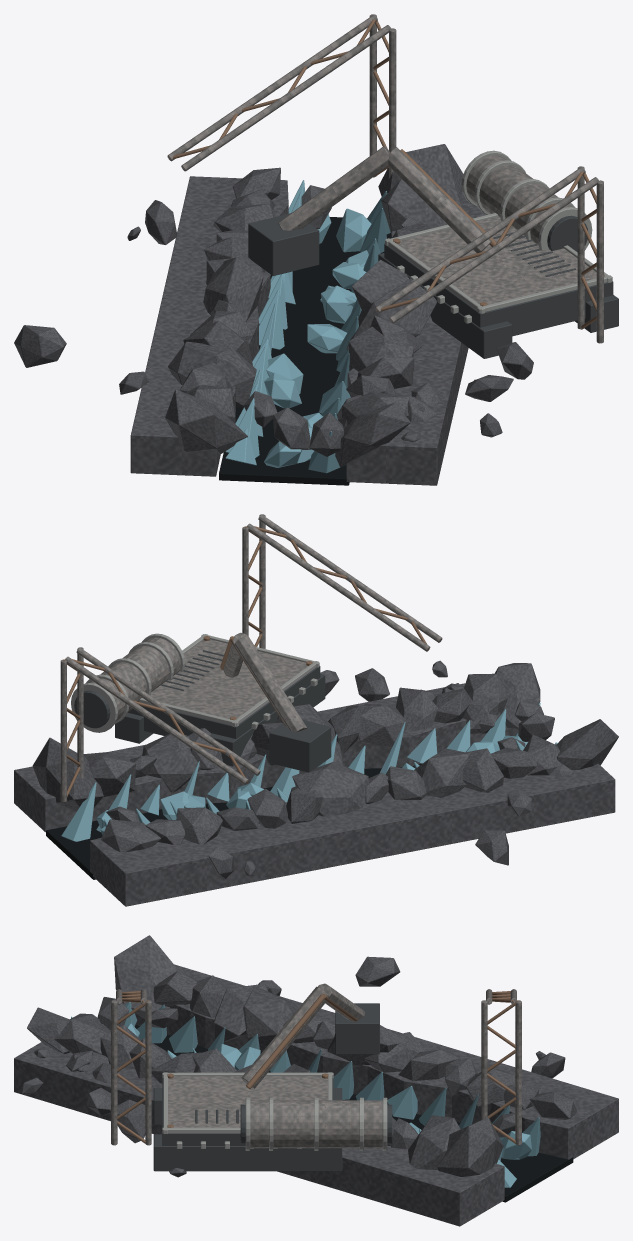
File: crystal-mine.glb
3 views of the same model, one above another, from view 1: azimuth 30°, elevation 25°; view 2: azimuth 150°, elevation 25°; view 3: azimuth 270°, elevation 25° (orthographic). The views are drawn at different scales.
Visible parts, largest first — view 1: Diagonal excavation.001 • editable solid geometry, crystal-mine • editable solid geometry; view 2: Diagonal excavation.001 • editable solid geometry, crystal-mine • editable solid geometry; view 3: Diagonal excavation.001 • editable solid geometry, crystal-mine • editable solid geometry.
Part boxes in pixels (x1=…): Diagonal excavation.001 • editable solid geometry: x1=130, y1=144, x2=486, y2=485; crystal-mine • editable solid geometry: x1=14, y1=14, x2=618, y2=456; Diagonal excavation.001 • editable solid geometry: x1=14, y1=663, x2=618, y2=906; crystal-mine • editable solid geometry: x1=60, y1=514, x2=573, y2=878; Diagonal excavation.001 • editable solid geometry: x1=14, y1=935, x2=618, y2=1226; crystal-mine • editable solid geometry: x1=21, y1=956, x2=565, y2=1177.
Bounding box in the file's own units: 7.9 × 3.19 × 8.83.
Materials: 7 (2 with a texture image).
